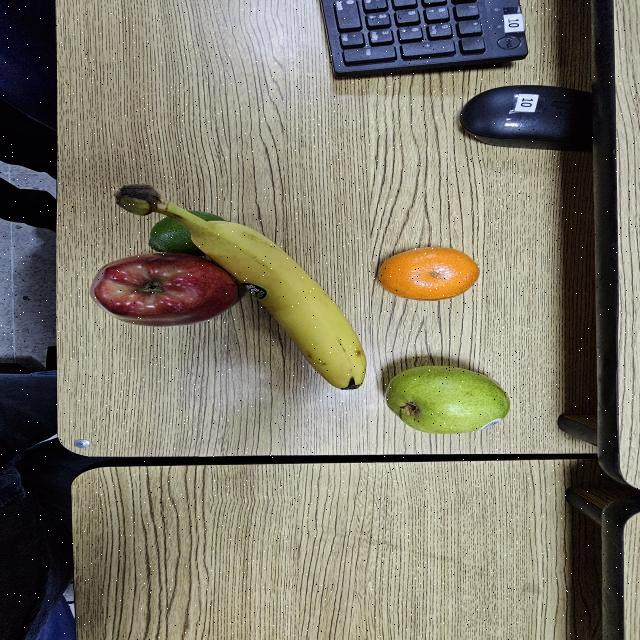Apel Merah: (78, 250, 257, 328)
Jeruk Mandarin: (352, 236, 503, 305)
Lemon: (138, 210, 236, 256)
Pir: (380, 358, 534, 446)
Pisang: (108, 172, 386, 398)
